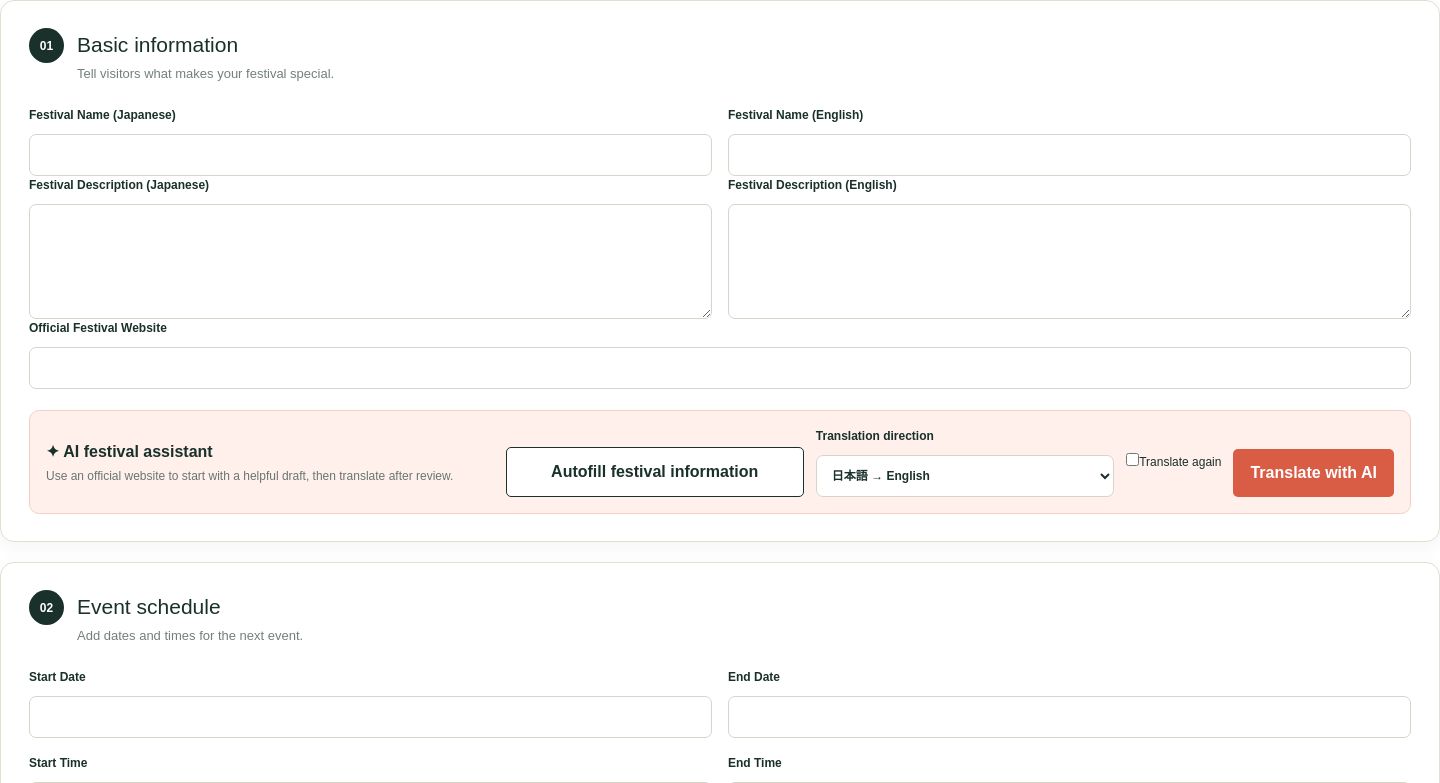
Test case: SubmissionForm Phase 2 › applies an edited translation only after approval
In the text box named "descriptionJa": (370, 262) [29, 204, 712, 319], type "説明"
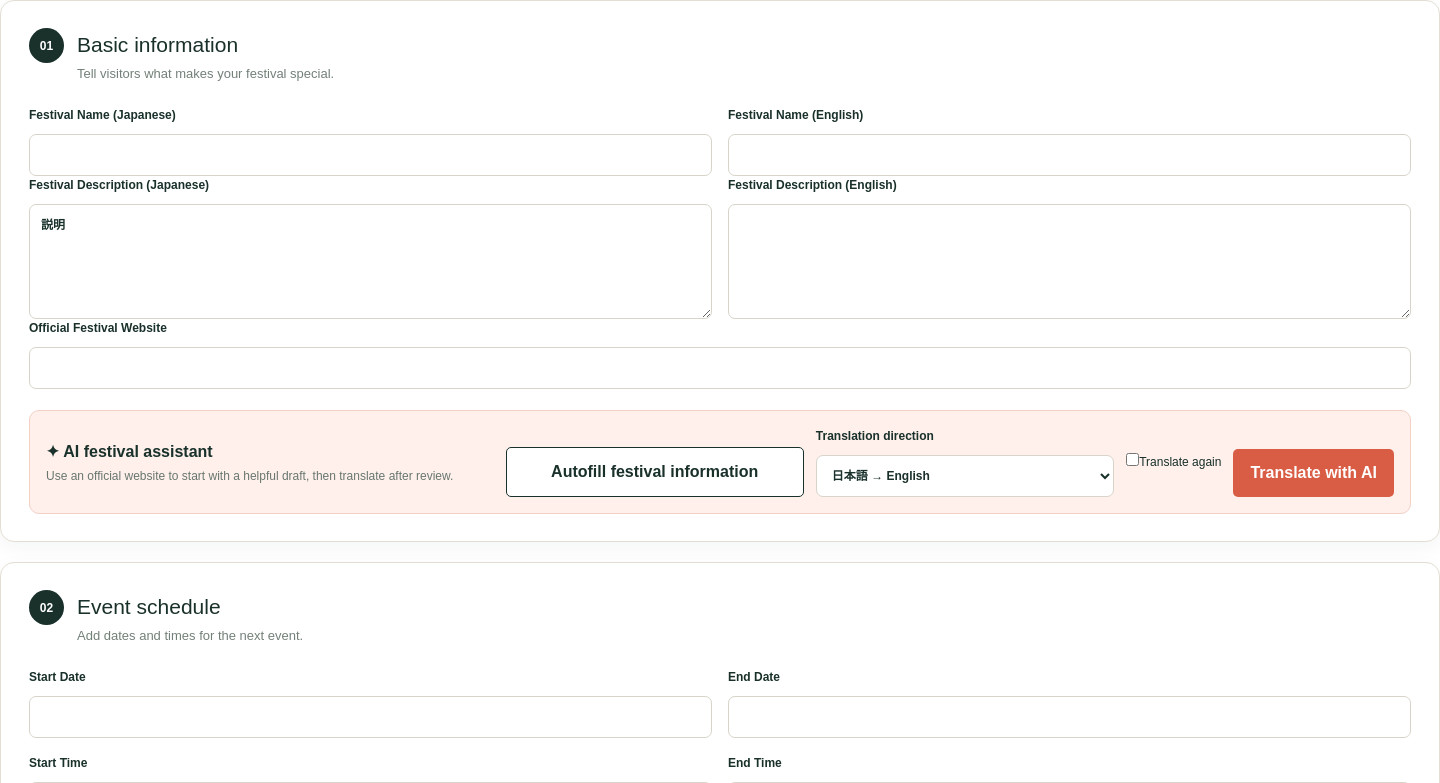
Click the button "Translate with AI": click(1314, 473) [1233, 449, 1394, 497]
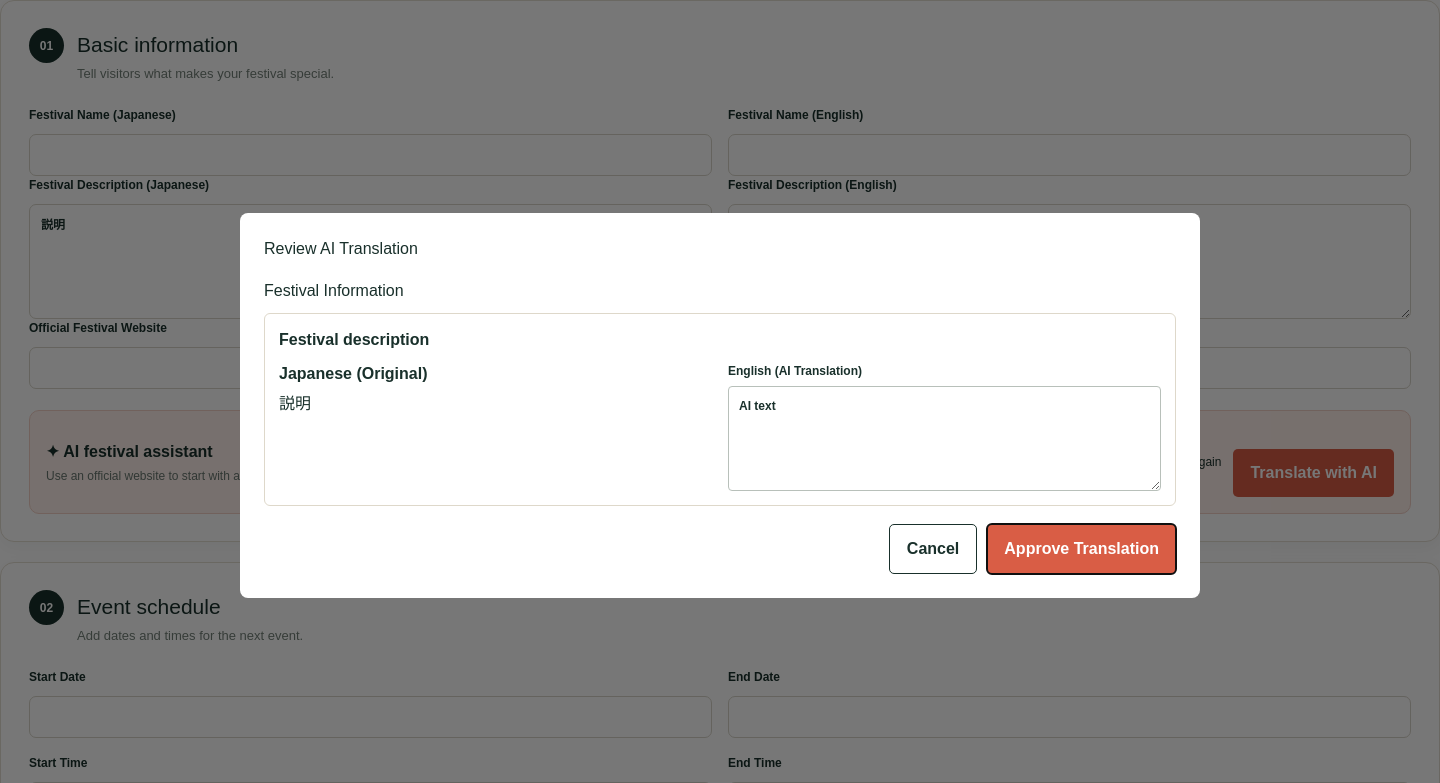
Replace the text in the text box showing "AI text" with "Edited text": (944, 438) [728, 386, 1161, 490]
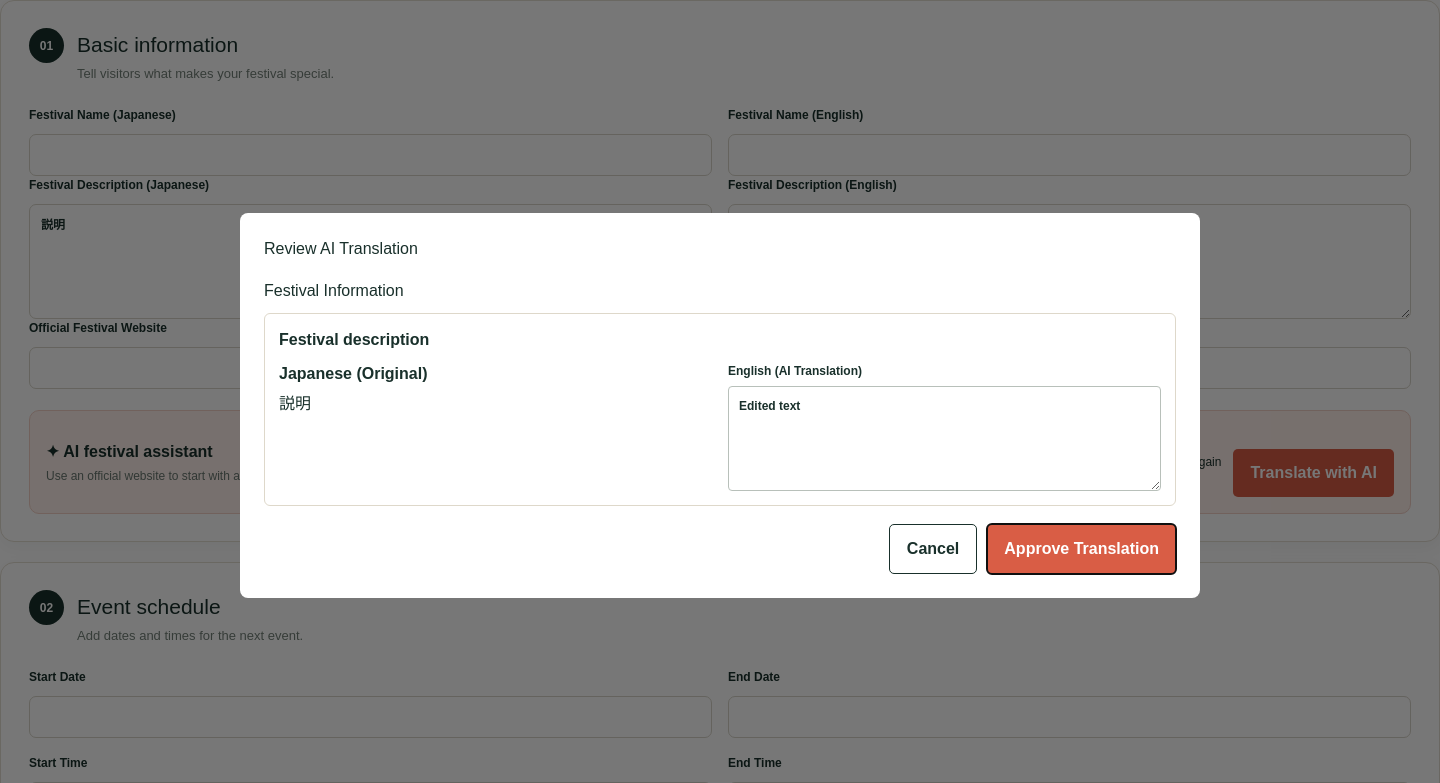
Click the button "Approve Translation": click(1082, 548) [987, 524, 1176, 574]
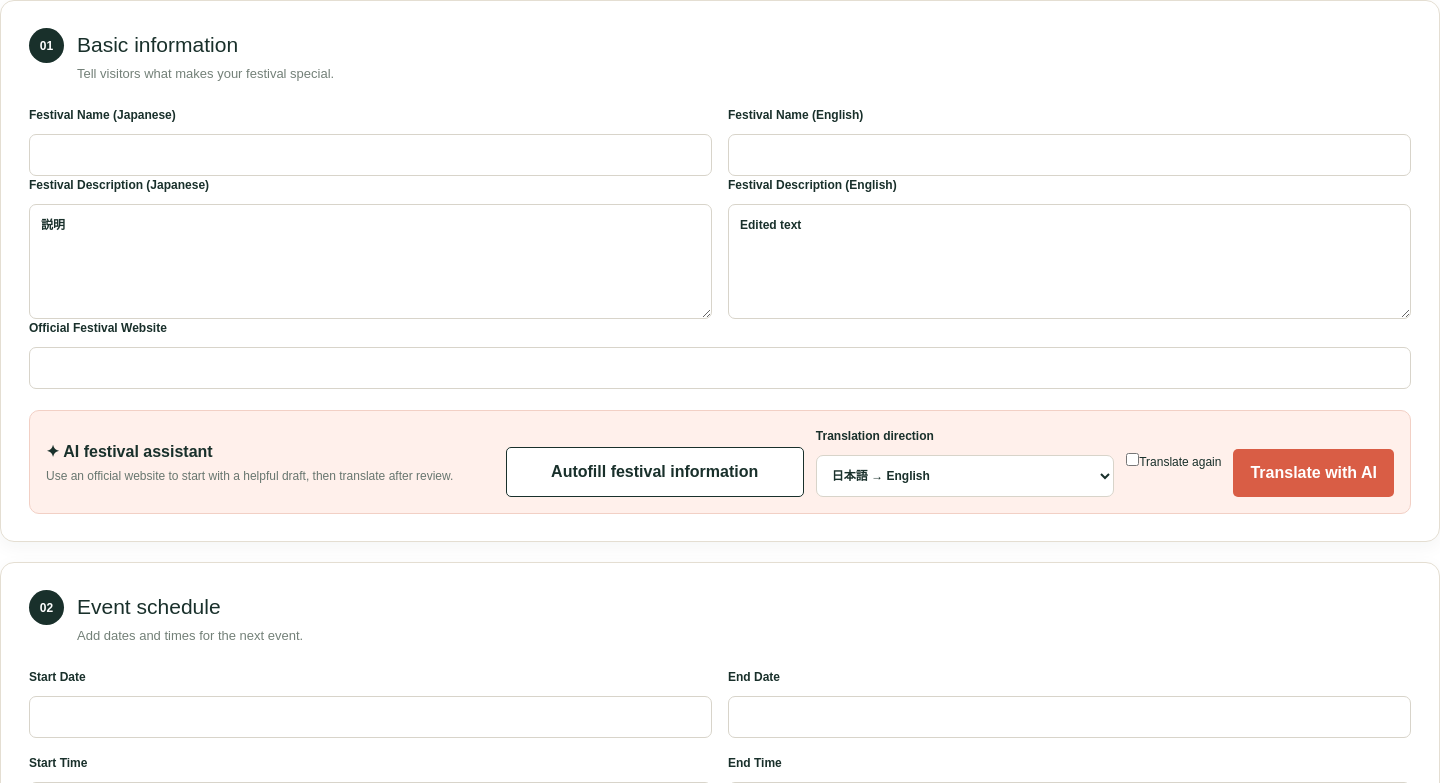
expect the text box named "descriptionEn" holds "Edited text": met, box [728, 204, 1411, 319]
